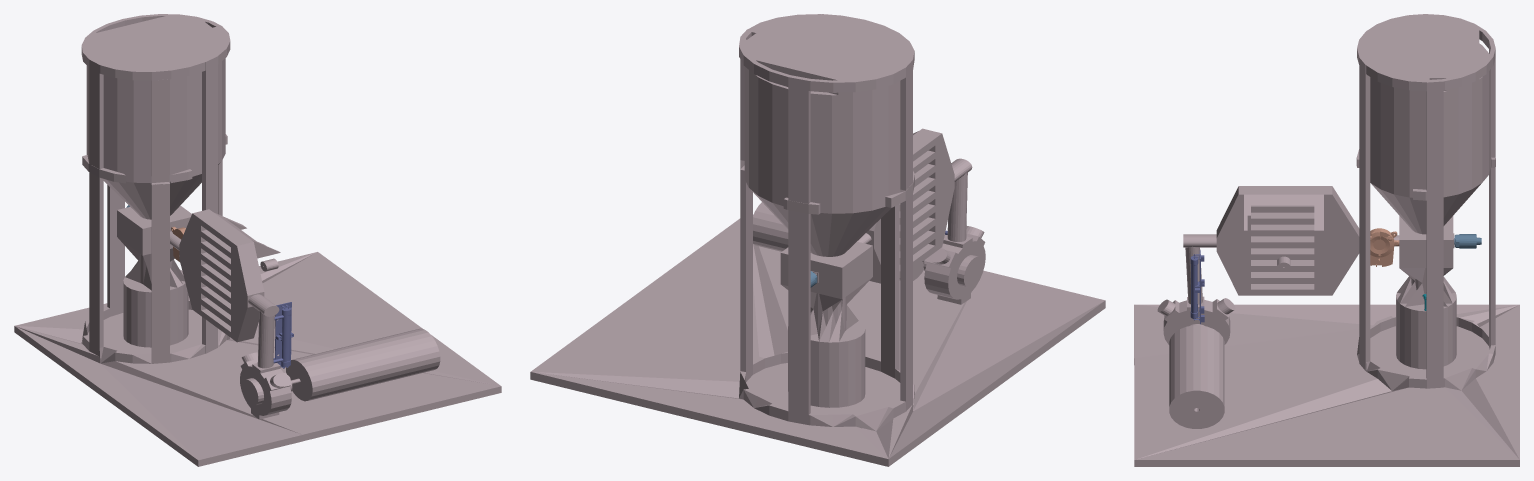
The picture shows the model from 3 angles, left to right: view 1: azimuth 30°, elevation 25°; view 2: azimuth 150°, elevation 25°; view 3: azimuth 270°, elevation 25°; orthographic projection. The views are drawn at different scales.
Visible parts, largest first — view 1: Mesh_Mesh_head_geo.001_lambert2SG.001; view 2: Mesh_Mesh_head_geo.001_lambert2SG.001; view 3: Mesh_Mesh_head_geo.001_lambert2SG.001.
Part boxes in pixels (bbox=[...]): Mesh_Mesh_head_geo.001_lambert2SG.001: bbox=[14, 14, 501, 466]; Mesh_Mesh_head_geo.001_lambert2SG.001: bbox=[530, 14, 1105, 466]; Mesh_Mesh_head_geo.001_lambert2SG.001: bbox=[1134, 14, 1519, 466].
Bounding box in the file's own units: 0.182 × 0.171 × 0.191.
